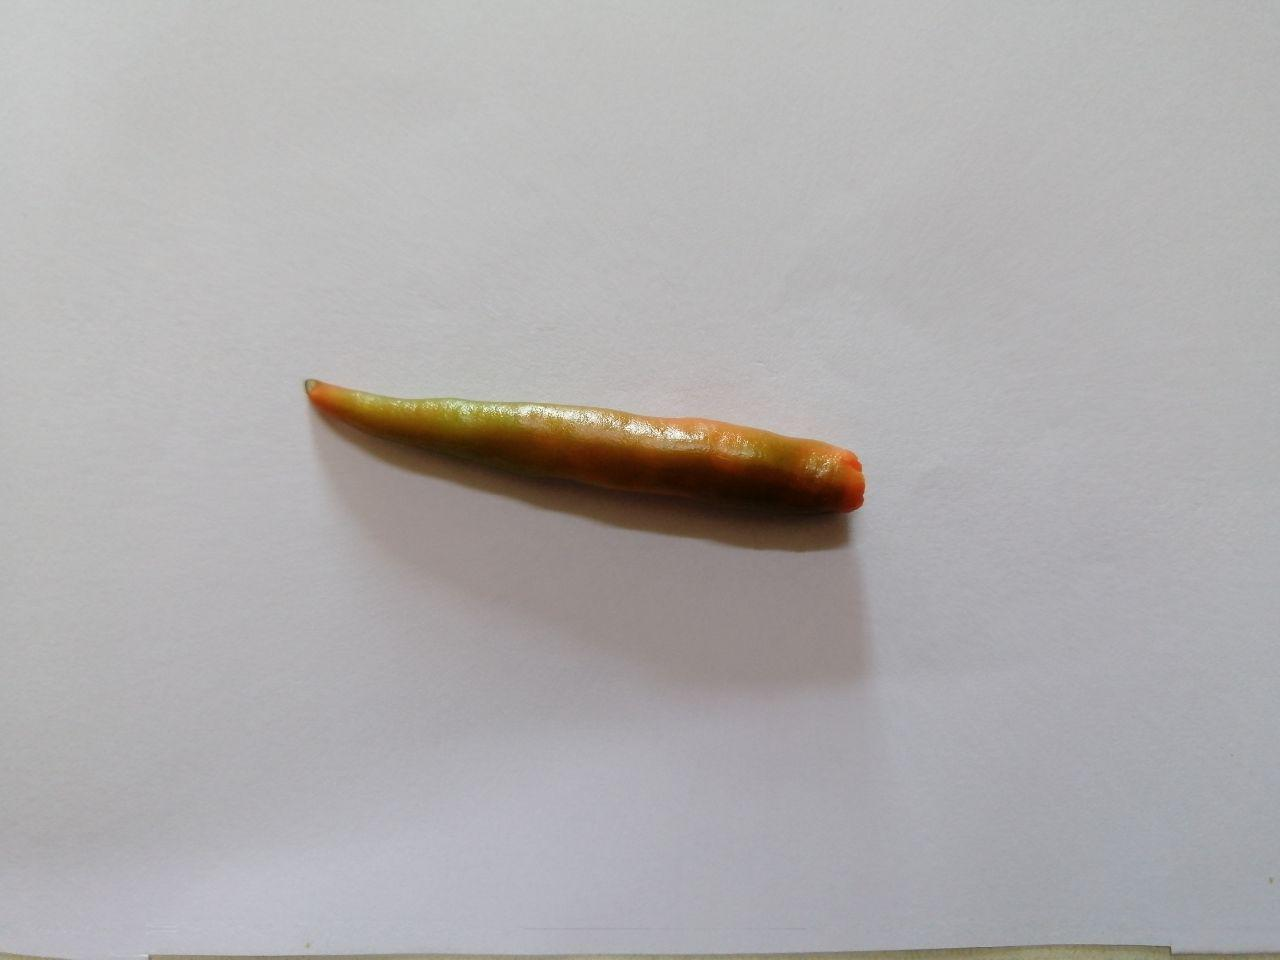lada kuning: (275, 364, 884, 577)
